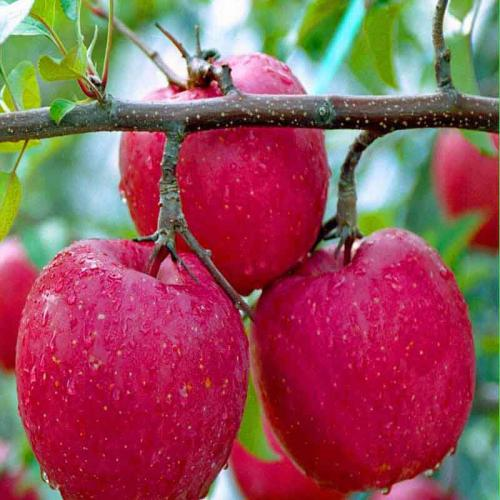apple: (15, 240, 251, 499), (249, 232, 477, 493)
obscured(1)_apple: (118, 54, 330, 294)
